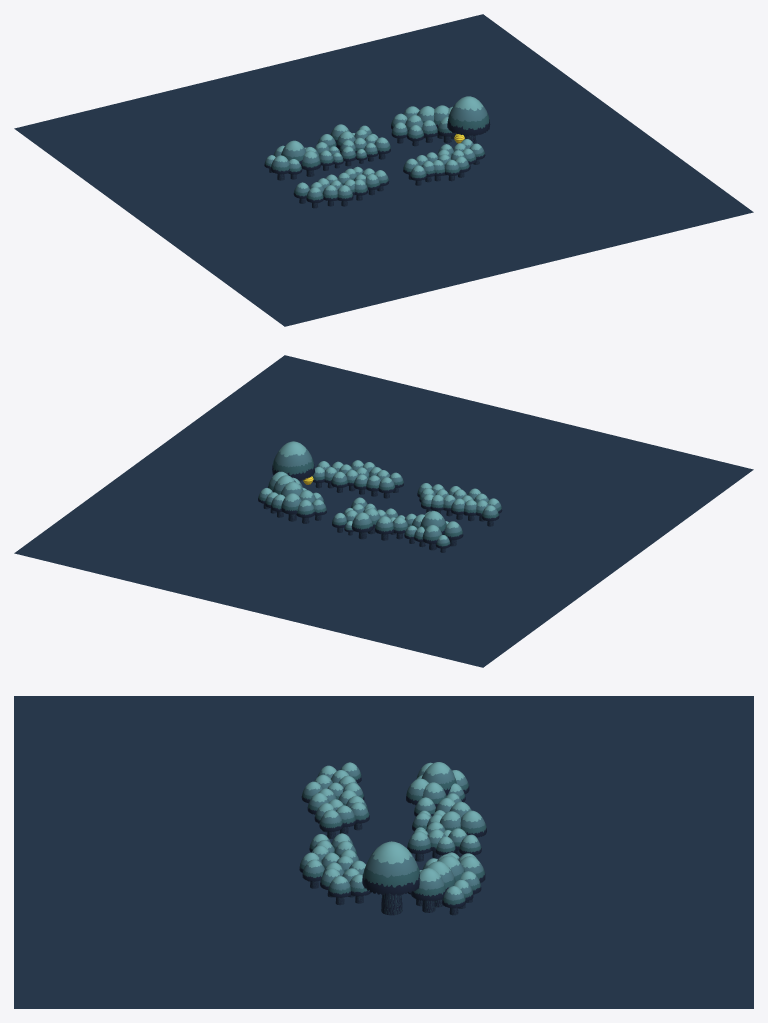
File: Bee Walkway.glb
The picture shows the model from 3 angles, top to bottom: view 1: azimuth 30°, elevation 25°; view 2: azimuth 150°, elevation 25°; view 3: azimuth 270°, elevation 25°; orthographic projection. The views are drawn at different scales.
Visible parts, largest first — view 1: Ground, Placeholder Tree.1275; view 2: Ground, Placeholder Tree.1275; view 3: Ground, Placeholder Tree.1275, Placeholder Tree.697, Placeholder Tree.721, Placeholder Tree.720.
Part boxes in pixels (bbox=[...]): Ground: bbox=[14, 14, 753, 326]; Placeholder Tree.1275: bbox=[447, 96, 490, 143]; Ground: bbox=[14, 355, 753, 667]; Placeholder Tree.1275: bbox=[272, 441, 314, 482]; Ground: bbox=[14, 696, 753, 1008]; Placeholder Tree.1275: bbox=[362, 841, 420, 915]; Placeholder Tree.697: bbox=[410, 868, 445, 912]; Placeholder Tree.721: bbox=[421, 762, 456, 795]; Placeholder Tree.720: bbox=[460, 810, 486, 837].
Bounding box in the file's own units: 100 × 10.36 × 100.
4 materials, 3 textured.
